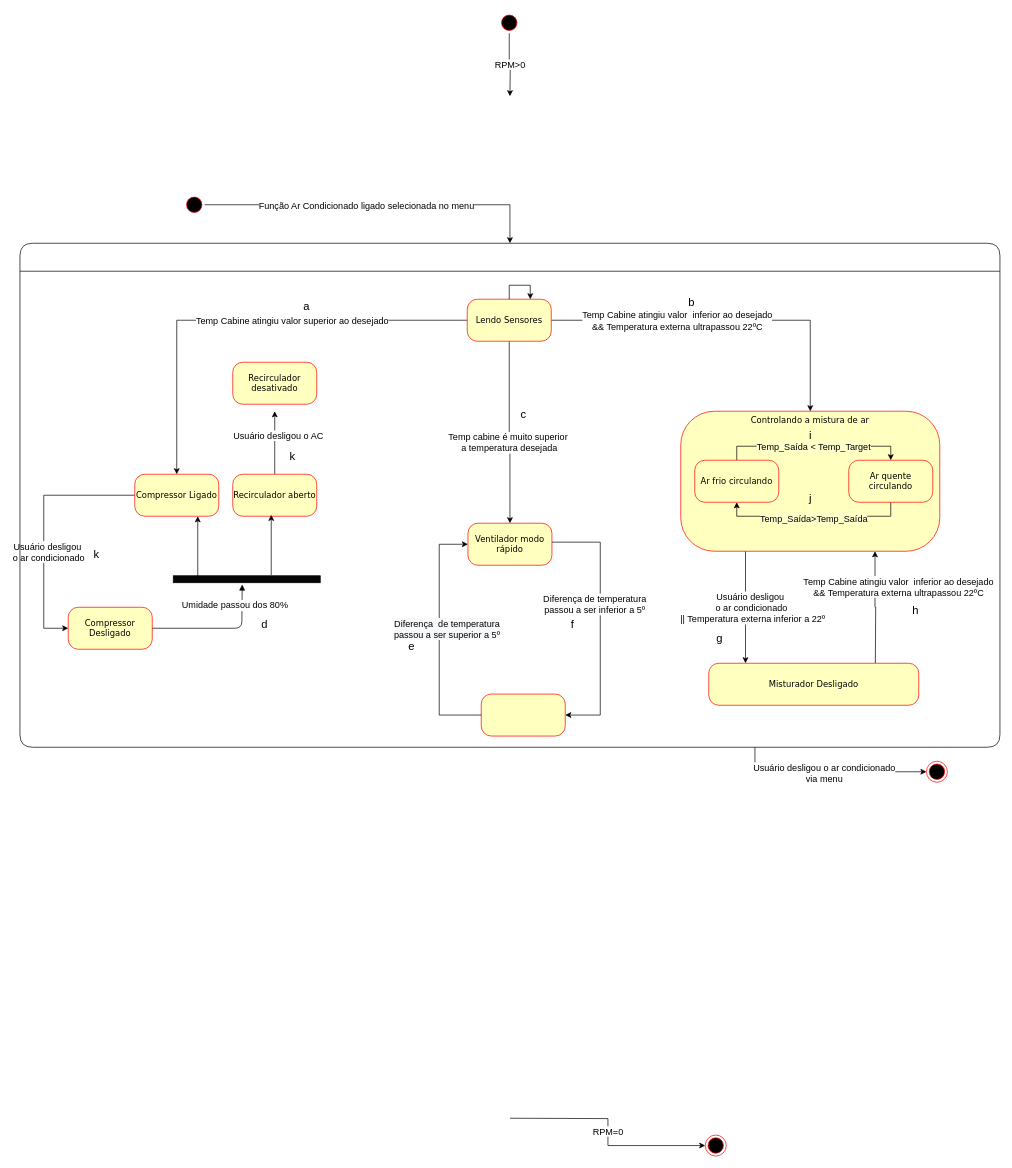
Some shapes in this 1012 by 1168 pixel diagram are drawn without their labels. The box of each missing label's shape, as (x1, y1, x2, y2) in pixels:
Ar condicionado ligado: (19, 243, 1000, 747)
Ventilador modo lento: (481, 693, 565, 736)
